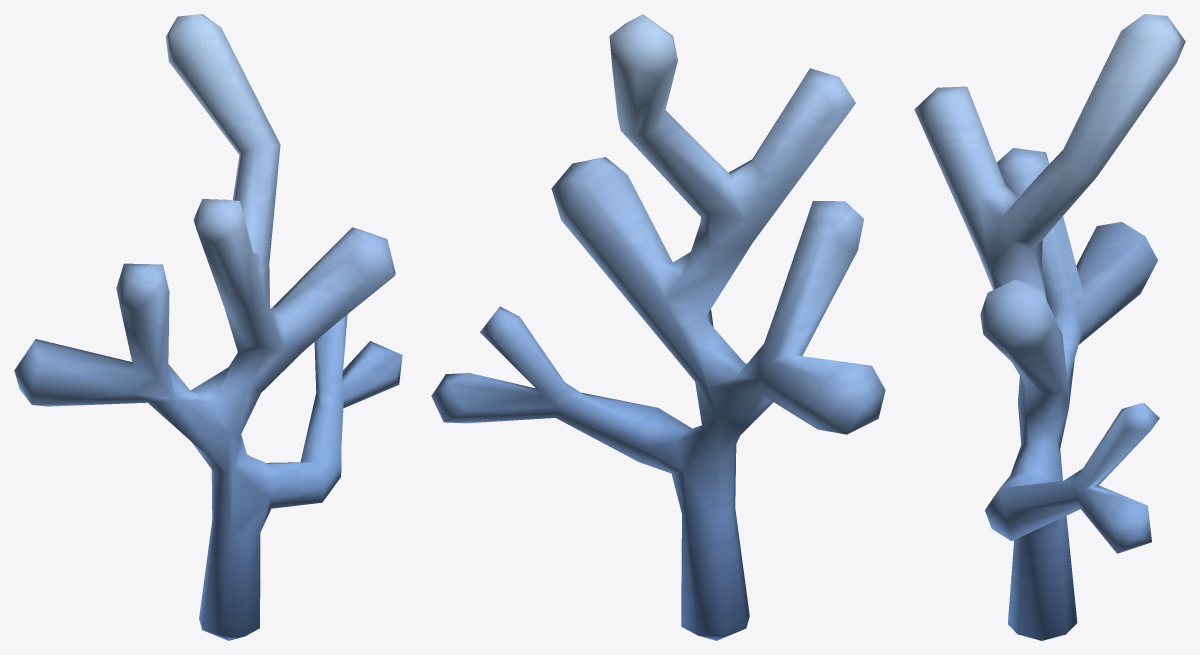
File: D_CoralReef.109.glb
The picture shows the model from 3 angles, left to right: view 1: azimuth 30°, elevation 25°; view 2: azimuth 150°, elevation 25°; view 3: azimuth 270°, elevation 25°; orthographic projection. The views are drawn at different scales.
Visible parts, largest first — view 1: D_CoralReef.109; view 2: D_CoralReef.109; view 3: D_CoralReef.109.
Boxes of the visible parts, box(x1,y1,x2,y2) form: D_CoralReef.109: box(14, 14, 402, 640); D_CoralReef.109: box(431, 14, 885, 640); D_CoralReef.109: box(914, 14, 1185, 640).
Bounding box in the file's own units: 0.4645 × 0.6826 × 0.2637.
Materials: 1 (1 with a texture image).
